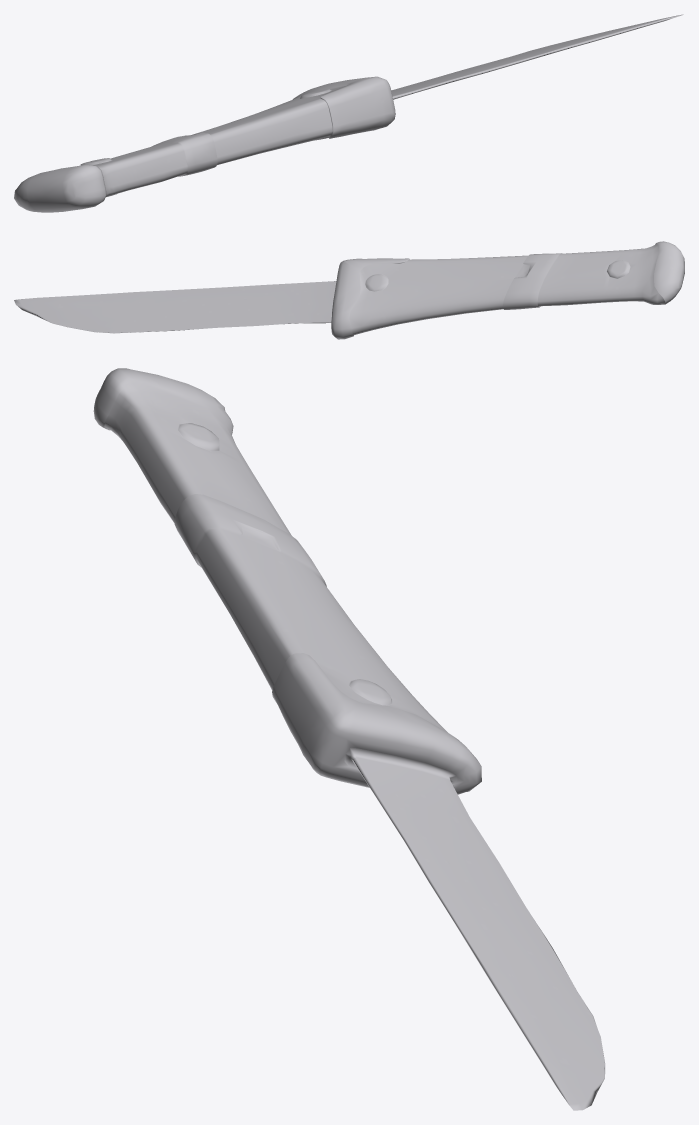
3 renders of one model, top to bottom at view 1: azimuth 30°, elevation 25°; view 2: azimuth 150°, elevation 25°; view 3: azimuth 270°, elevation 25°, orthographic. The views are drawn at different scales.
Size of the model in its own units: 1 by 0.189 by 0.3897.
